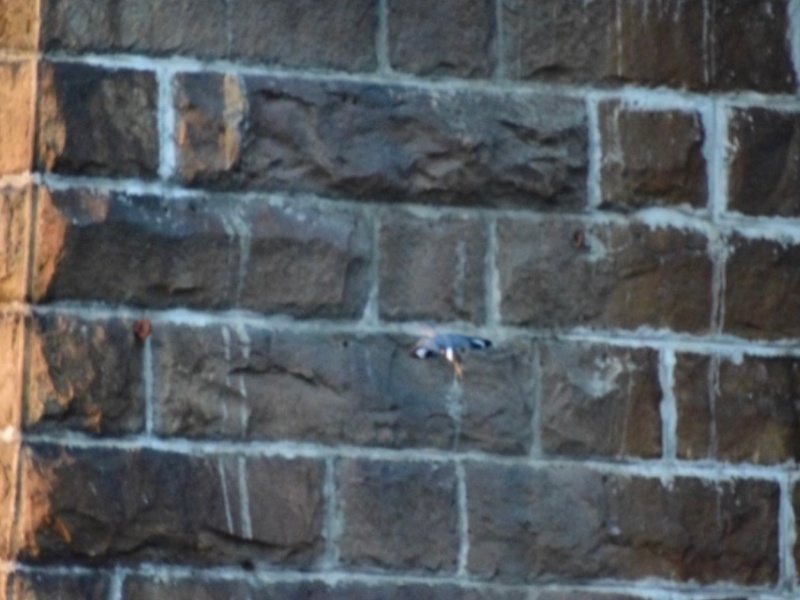kingfisher: (408, 314, 497, 382)
